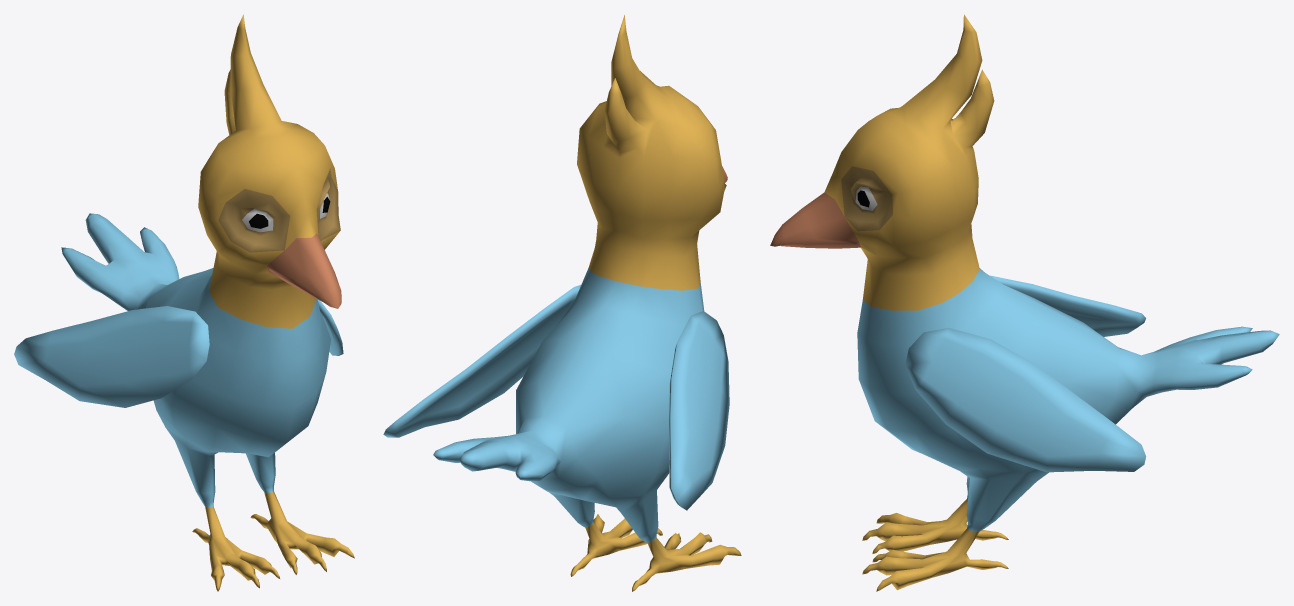
The model's file is Bird.fbx.
3 renders of one model, left to right at view 1: azimuth 30°, elevation 25°; view 2: azimuth 150°, elevation 25°; view 3: azimuth 270°, elevation 25°, orthographic. The views are drawn at different scales.
Visible parts, largest first — view 1: main bird; view 2: main bird; view 3: main bird.
Boxes of the visible parts, x1,y1,x2,y2 form: main bird: (14, 14, 354, 591); main bird: (383, 15, 741, 591); main bird: (770, 14, 1279, 591).
Size of the model in its own units: 108 by 193 by 163.
